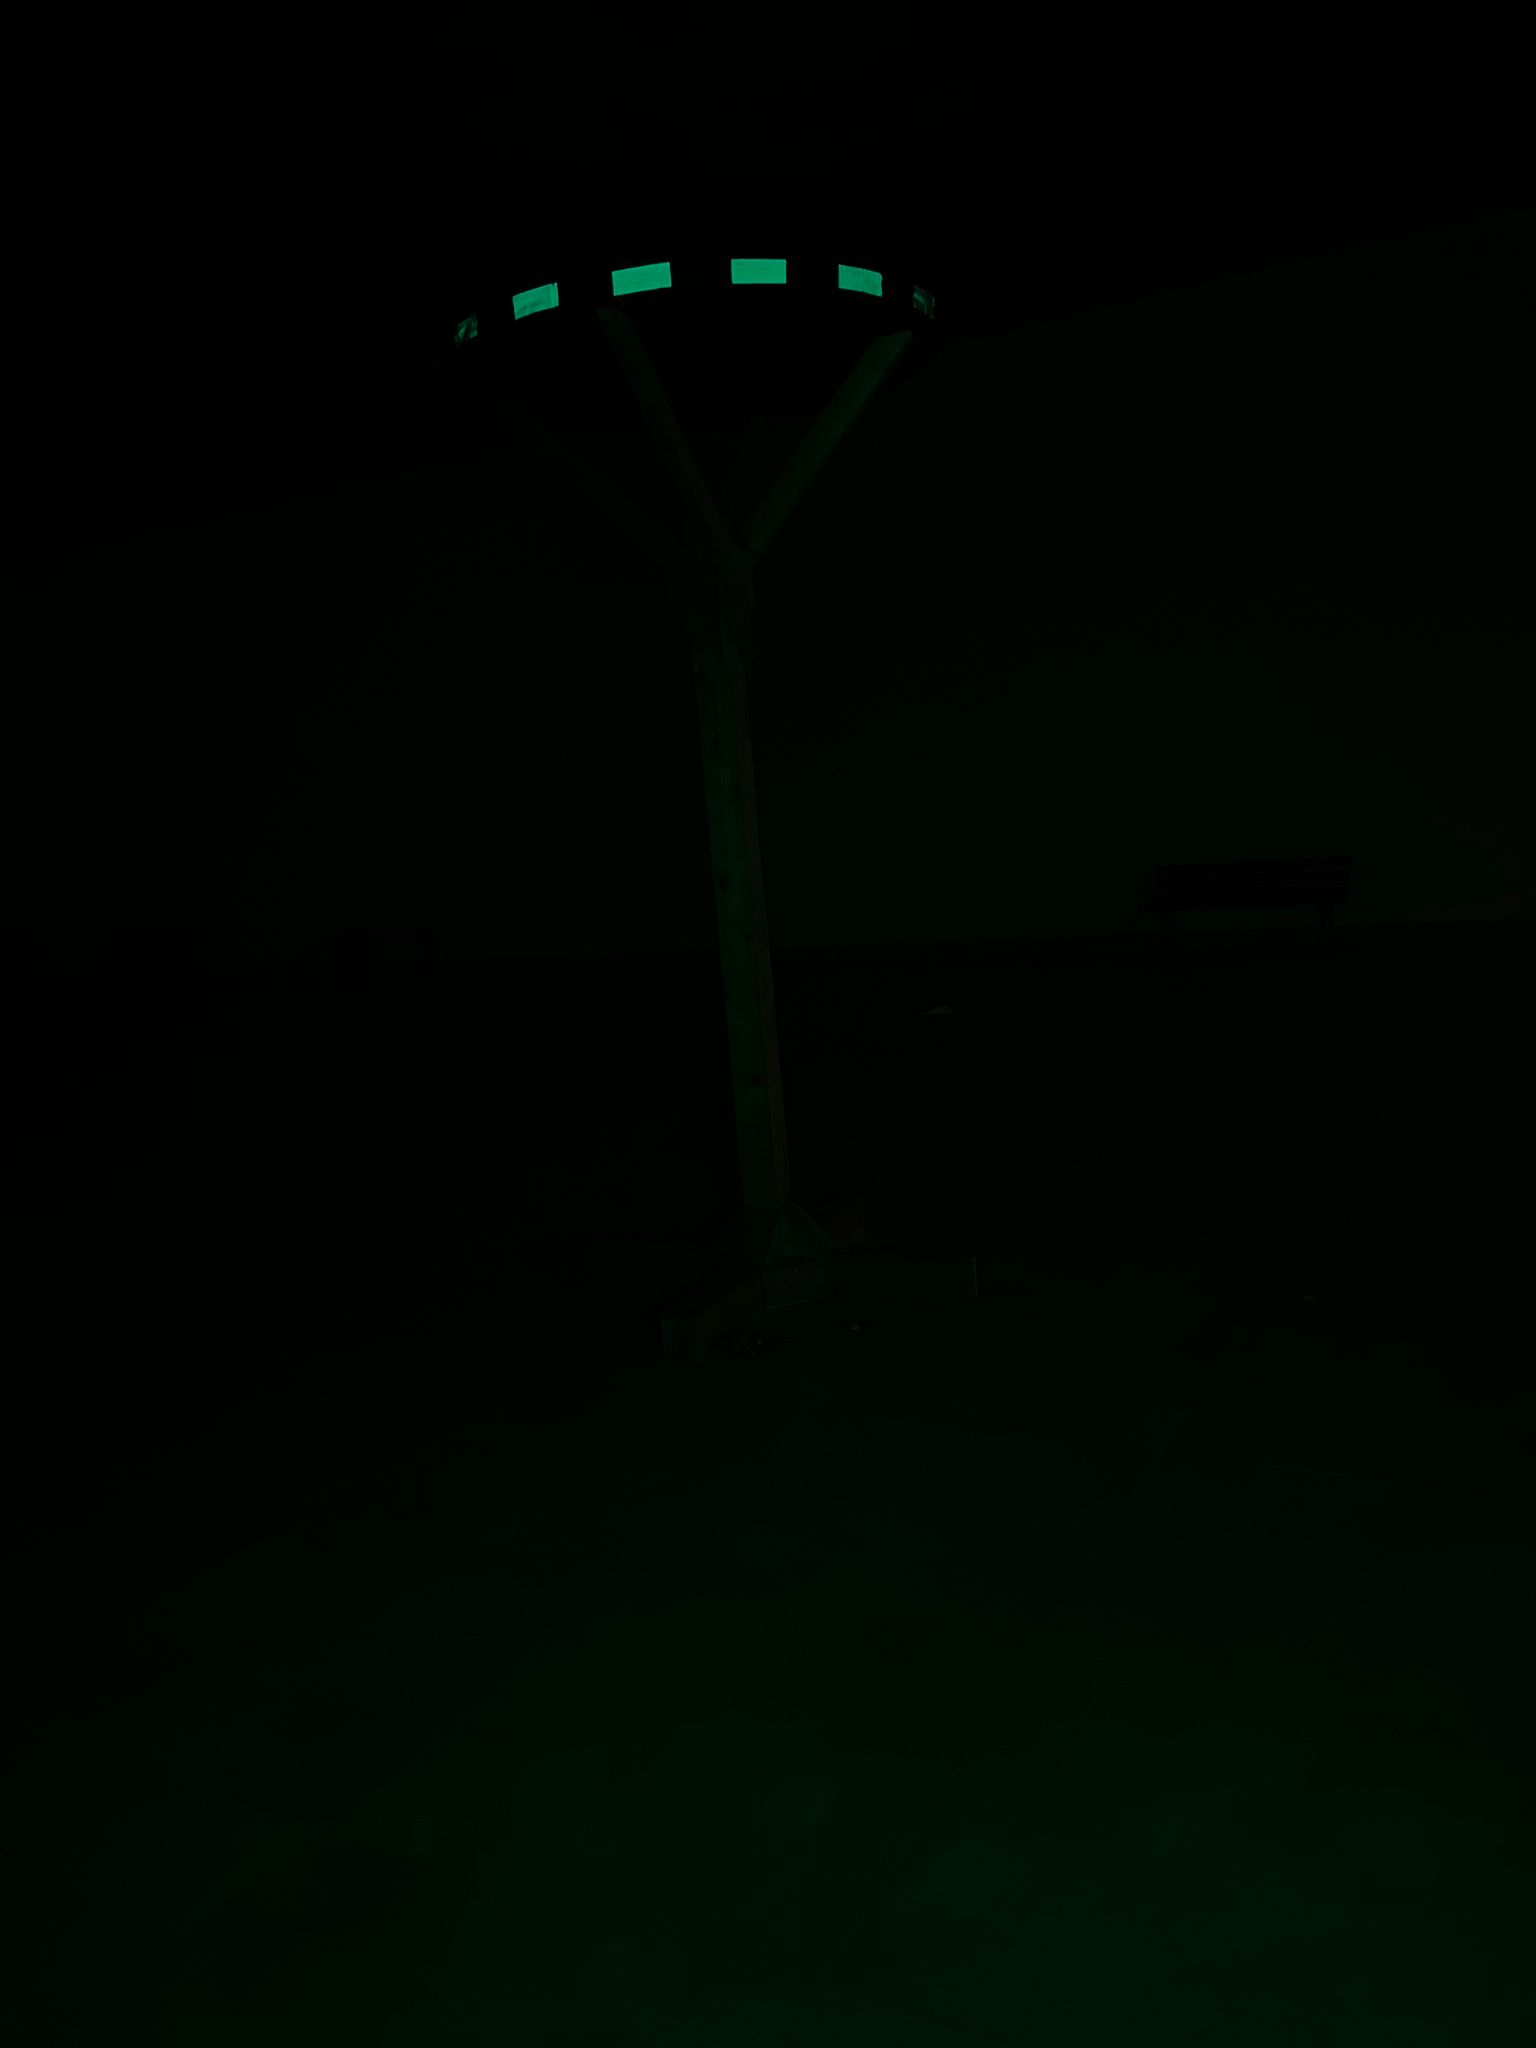hoop: (495, 248, 897, 324)
